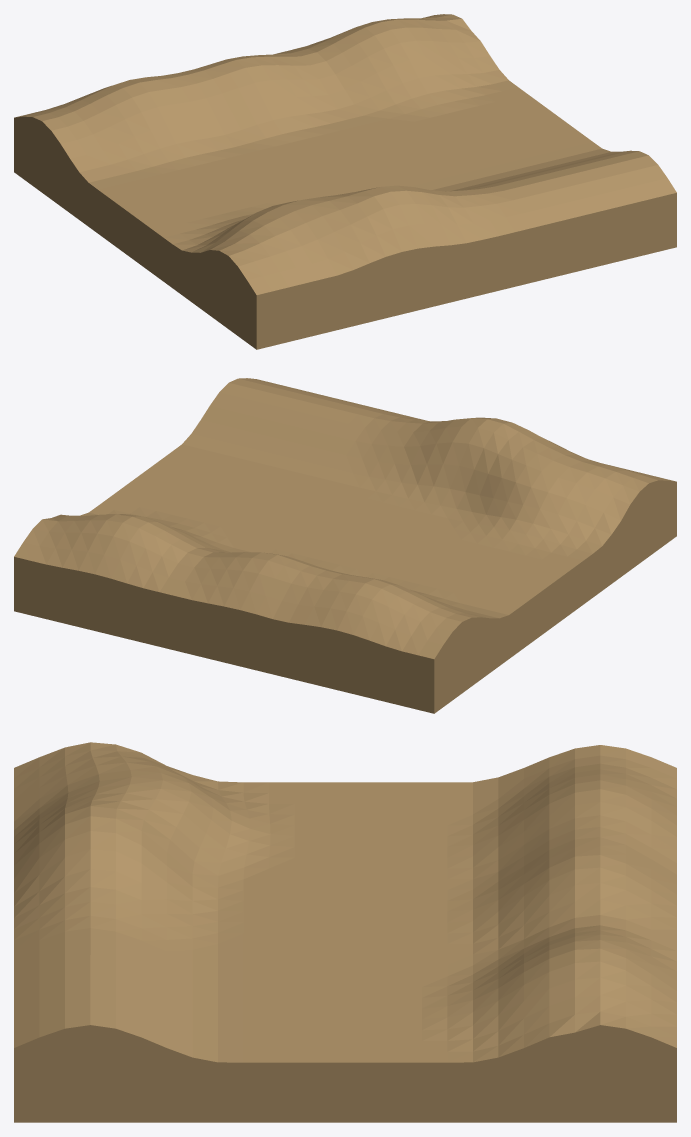
The picture shows the model from 3 angles, top to bottom: view 1: azimuth 30°, elevation 25°; view 2: azimuth 150°, elevation 25°; view 3: azimuth 270°, elevation 25°; orthographic projection. The views are drawn at different scales.
Parts seen in each view (by area): view 1: Base; view 2: Base; view 3: Base.
Part boxes in pixels (x1,y1,x2,y2): Base: (14,14,676,349); Base: (14,378,676,713); Base: (14,742,676,1122).
Size of the model in its own units: 10000 by 2230 by 10000.
